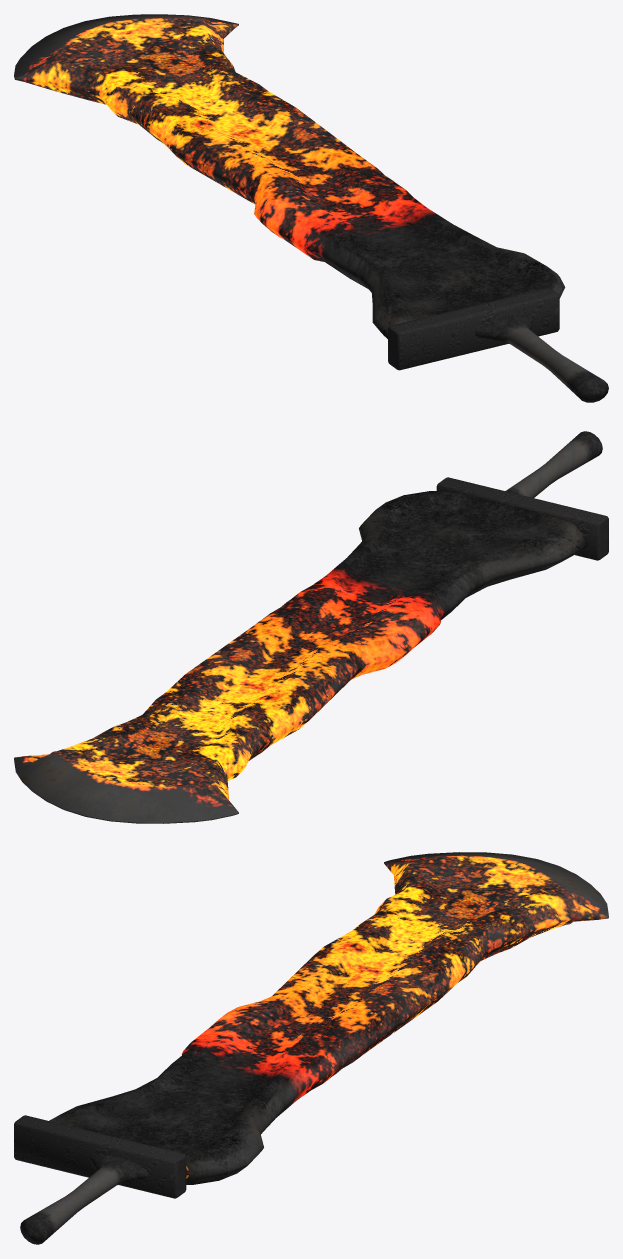
File: FUGS.fbx
The picture shows the model from 3 angles, top to bottom: view 1: azimuth 30°, elevation 25°; view 2: azimuth 150°, elevation 25°; view 3: azimuth 330°, elevation 25°; orthographic projection.
Parts seen in each view (by area): view 1: FUGS; view 2: FUGS; view 3: FUGS.
Boxes of the visible parts, <box> form: FUGS: <box>14,14,608,402</box>; FUGS: <box>14,431,608,823</box>; FUGS: <box>14,852,608,1244</box>.
Size of the model in its own units: 111 by 17.75 by 437.
